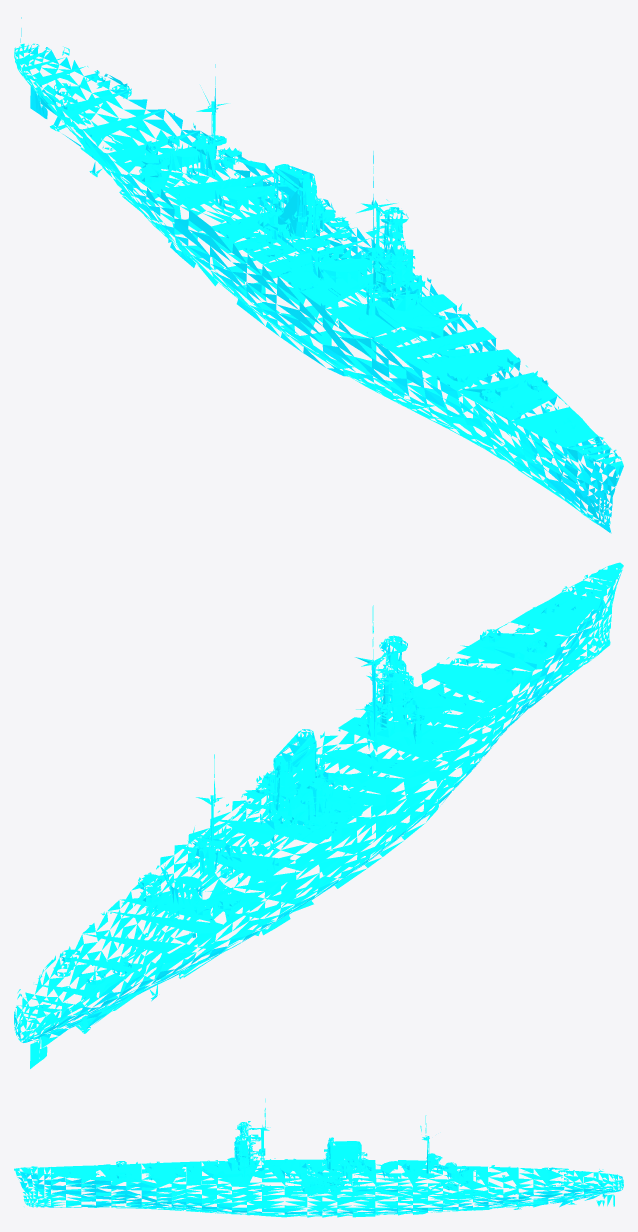
File: Michelangelo.glb
3 views of the same model, one above another, from view 1: azimuth 30°, elevation 25°; view 2: azimuth 150°, elevation 25°; view 3: azimuth 270°, elevation 25° (orthographic). The views are drawn at different scales.
Bounding box in the file's own units: 1.88 × 3.46 × 17.51.
